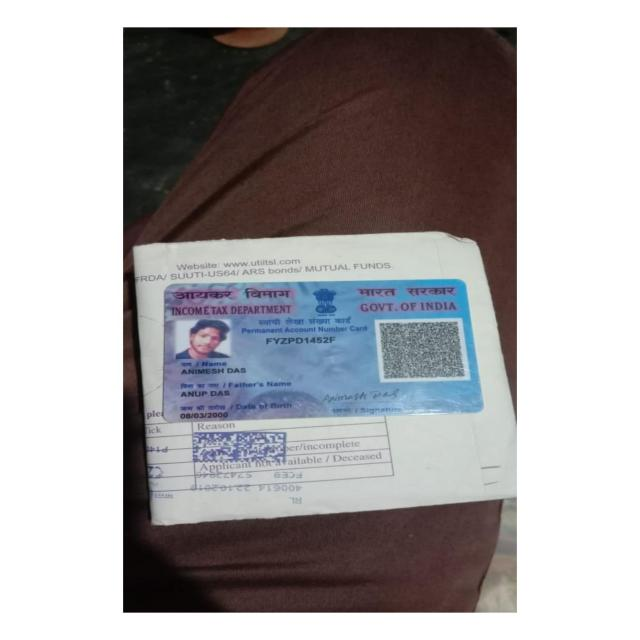pan_card: (165, 281, 479, 423)
